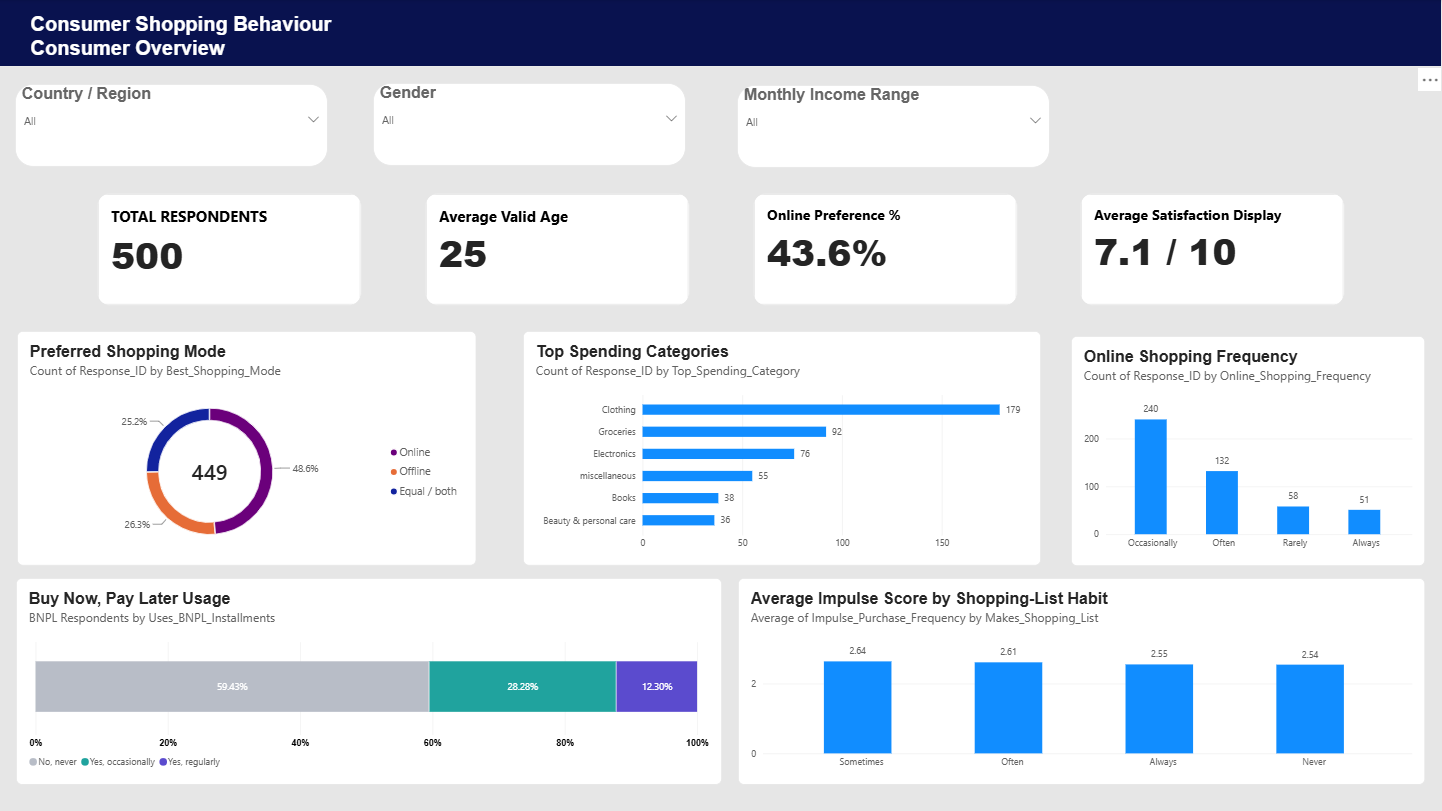

This screenshot's page, from the dashboard's own definition file:
{"tool":"powerbi","page":{"name":"Page 1","canvas":[1920,1080],"ordinal":0},"visuals":[{"type":"textbox","box":[0,0,1909.6,90.9],"z":0},{"type":"slicer","fields":{"Values":["consumer_shopping_behavior_survey.Country_Region"]},"box":[21.7,112.6,415.7,110.4],"z":1000},{"type":"slicer","fields":{"Values":["consumer_shopping_behavior_survey.Gender"]},"box":[498,112,415.7,110.4],"z":2000},{"type":"slicer","fields":{"Values":["consumer_shopping_behavior_survey.Monthly_Income_Range"]},"box":[982,114,415.7,110.4],"z":3000},{"type":"cardVisual","title":"TOTAL RESPONDE","fields":{"Data":["consumer_shopping_behavior_survey.Total Respondents"]},"box":[130,258,352,150],"z":4000,"group":"g1"},{"type":"cardVisual","title":"TOTAL RESPONDE","fields":{"Data":["consumer_shopping_behavior_survey.Average Valid Age"]},"box":[566,258,352,150],"z":5000,"group":"g1"},{"type":"cardVisual","title":"TOTAL RESPONDE","fields":{"Data":["consumer_shopping_behavior_survey.Online Preference %"]},"box":[1002,258,352,150],"z":6000,"group":"g1"},{"type":"cardVisual","title":"TOTAL RESPONDE","fields":{"Data":["consumer_shopping_behavior_survey.Average Satisfaction Display"]},"box":[1438,258,352,150],"z":7000,"group":"g1"},{"type":"donutChart","title":"Preferred Shopping Mode","fields":{"Category":["consumer_shopping_behavior_survey.Best_Shopping_Mode"],"Y":["CountNonNull(consumer_shopping_behavior_survey.Response_ID)"]},"box":[23.3,442.1,611.3,312.2],"z":8000,"group":"g2"},{"type":"group","id":"g1","title":"Group 1","box":[130,258,1660,150],"z":8001},{"type":"clusteredBarChart","title":"Top Spending Categories","fields":{"Category":["consumer_shopping_behavior_survey.Top_Spending_Category"],"Y":["CountNonNull(consumer_shopping_behavior_survey.Response_ID)"]},"box":[696.1,442.5,689,312.4],"z":8002,"group":"g2"},{"type":"clusteredColumnChart","title":"Online Shopping Frequency","fields":{"Category":["consumer_shopping_behavior_survey.Online_Shopping_Frequency"],"Y":["CountNonNull(consumer_shopping_behavior_survey.Response_ID)"]},"box":[1425.6,449.2,471.1,305.6],"z":8003,"group":"g2"},{"type":"group","id":"g2","title":"Group 2","box":[23.3,442.1,1873.4,312.8],"z":8004},{"type":"hundredPercentStackedBarChart","title":"Buy Now, Pay Later Usage","fields":{"Series":["consumer_shopping_behavior_survey.Uses_BNPL_Installments"],"Y":["consumer_shopping_behavior_survey.BNPL Respondents"]},"box":[22,770,938.9,275.3],"z":8005},{"type":"columnChart","title":"Average Impulse Score by Shopping-List Habit","fields":{"Category":["consumer_shopping_behavior_survey.Makes_Shopping_List"],"Y":["Avg(consumer_shopping_behavior_survey.Impulse_Purchase_Frequency)"]},"box":[982.8,770,913.6,275.3],"z":8006}]}

Visuals, with their boxes in screenshot pixels (x1, y1, x2, y2), scaled from the page's 1920x1080 canvas onto the 1442x811 screenshot:
textbox: pyautogui.locateOnScreen(0, 0, 1434, 68)
slicer - consumer_shopping_behavior_survey.Country_Region: pyautogui.locateOnScreen(16, 85, 329, 167)
slicer - consumer_shopping_behavior_survey.Gender: pyautogui.locateOnScreen(374, 84, 686, 167)
slicer - consumer_shopping_behavior_survey.Monthly_Income_Range: pyautogui.locateOnScreen(738, 86, 1050, 169)
"TOTAL RESPONDE" cardVisual: pyautogui.locateOnScreen(98, 194, 362, 306)
"TOTAL RESPONDE" cardVisual: pyautogui.locateOnScreen(425, 194, 689, 306)
"TOTAL RESPONDE" cardVisual: pyautogui.locateOnScreen(753, 194, 1017, 306)
"TOTAL RESPONDE" cardVisual: pyautogui.locateOnScreen(1080, 194, 1344, 306)
"Preferred Shopping Mode" donutChart: pyautogui.locateOnScreen(17, 332, 477, 566)
"Group 1" group: pyautogui.locateOnScreen(98, 194, 1344, 306)
"Top Spending Categories" clusteredBarChart: pyautogui.locateOnScreen(523, 332, 1040, 567)
"Online Shopping Frequency" clusteredColumnChart: pyautogui.locateOnScreen(1071, 337, 1425, 567)
"Group 2" group: pyautogui.locateOnScreen(17, 332, 1425, 567)
"Buy Now, Pay Later Usage" hundredPercentStackedBarChart: pyautogui.locateOnScreen(17, 578, 722, 785)
"Average Impulse Score by Shopping-List Habit" columnChart: pyautogui.locateOnScreen(738, 578, 1424, 785)
